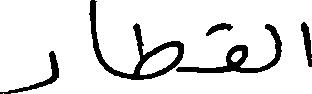X: (135, 18, 181, 84), (0, 46, 56, 93), (228, 19, 244, 77), (91, 0, 103, 71), (267, 19, 279, 74), (303, 17, 311, 71)
